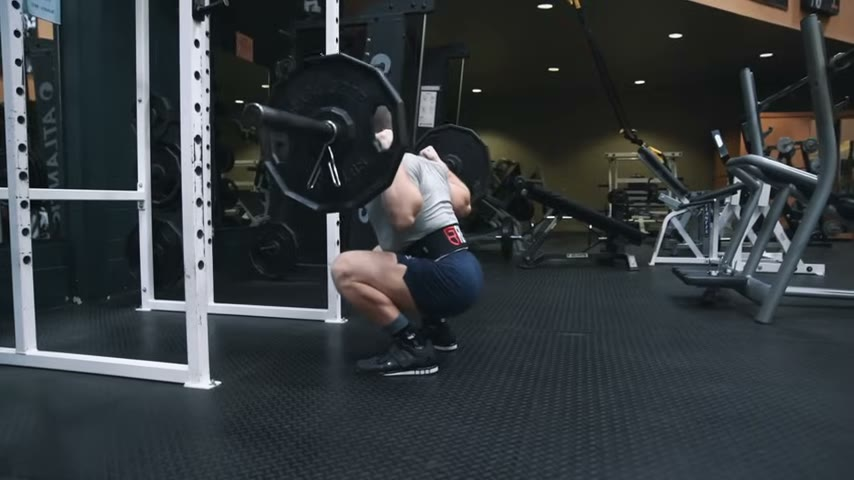barbell_plate_side: (228, 53, 320, 228)
